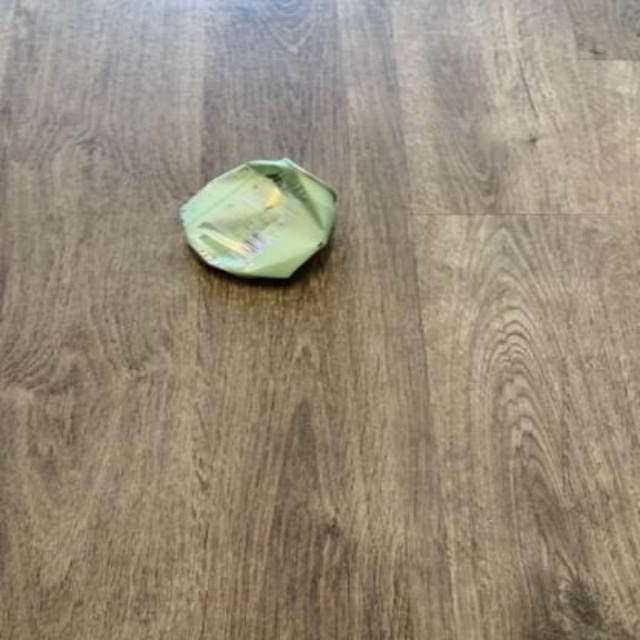trash: (180, 158, 335, 277)
